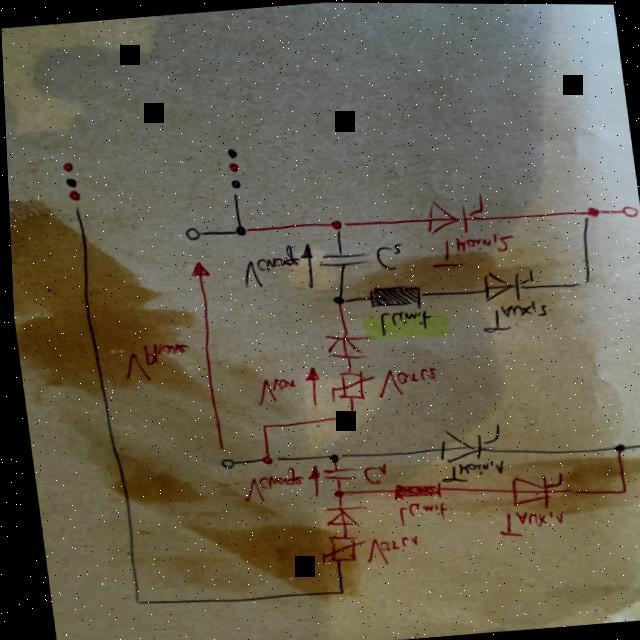capacitor: (312, 248, 368, 270), (314, 465, 355, 482)
diode: (318, 330, 371, 361), (316, 503, 364, 530)
inductor: (362, 280, 420, 312), (385, 479, 437, 500)
junction: (324, 217, 345, 233), (578, 204, 598, 220), (252, 453, 275, 466), (227, 222, 246, 236), (320, 451, 339, 463), (325, 486, 344, 498), (606, 441, 624, 453), (569, 276, 588, 287), (327, 293, 344, 305), (328, 586, 344, 596), (123, 596, 136, 606), (338, 411, 351, 420), (612, 485, 624, 494), (252, 421, 265, 429)
terminal: (61, 188, 81, 209), (179, 225, 199, 242), (224, 177, 241, 196), (616, 203, 635, 218), (213, 457, 230, 470), (640, 433, 640, 446)
text: (423, 229, 513, 269), (115, 339, 188, 384), (233, 242, 299, 291), (233, 463, 302, 504), (473, 298, 547, 334), (368, 363, 435, 398), (489, 506, 561, 538), (431, 456, 502, 484), (356, 533, 416, 566), (371, 307, 430, 337), (389, 498, 444, 527), (248, 374, 296, 407), (369, 240, 403, 271), (356, 461, 384, 486)
thyristor: (428, 423, 499, 464), (418, 194, 485, 236), (502, 468, 561, 510), (475, 266, 534, 304)
